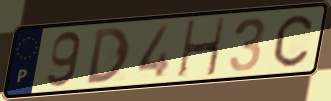3: (227, 16, 267, 73)
4: (135, 23, 172, 79)
9: (45, 29, 83, 90)
C: (272, 12, 315, 69)
D: (85, 25, 132, 87)
H: (176, 16, 228, 80)
